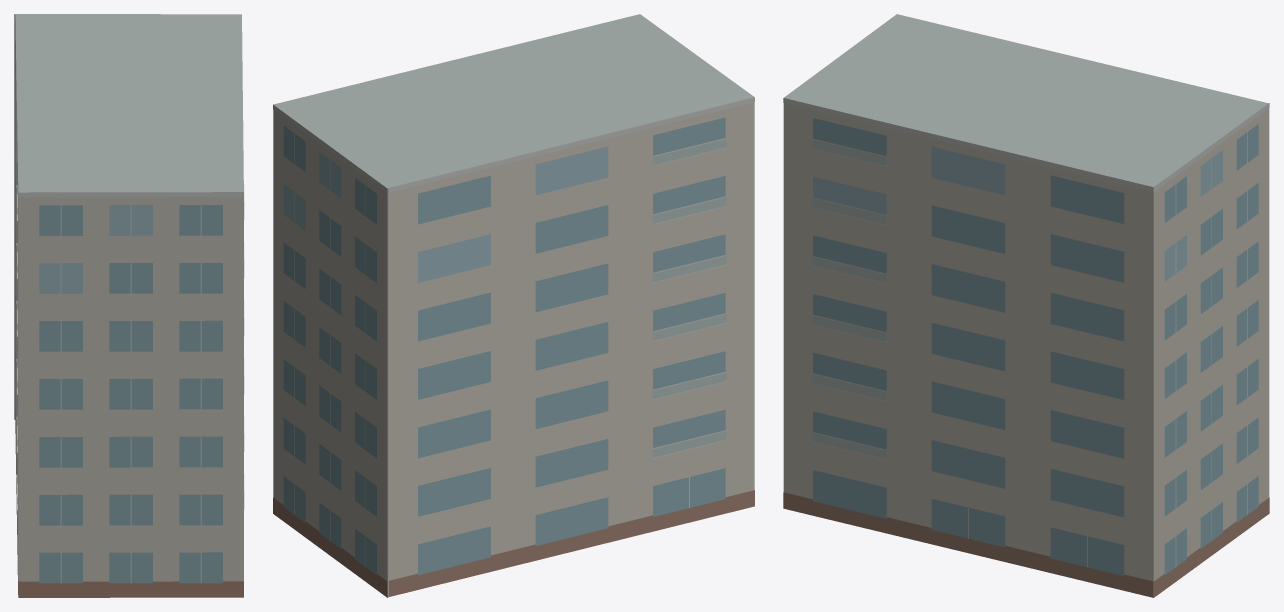
File: survey-upis-32653313.glb
3 renders of one model, left to right at view 1: azimuth 30°, elevation 25°; view 2: azimuth 150°, elevation 25°; view 3: azimuth 270°, elevation 25°, orthographic.
Visible parts, largest first — view 1: survey-upis-32653313.tmp; view 2: survey-upis-32653313.tmp; view 3: survey-upis-32653313.tmp.
Part boxes in pixels (left/top/right/bottom): survey-upis-32653313.tmp: left=14, top=14, right=244, bottom=597; survey-upis-32653313.tmp: left=273, top=14, right=754, bottom=597; survey-upis-32653313.tmp: left=783, top=14, right=1269, bottom=597.
Size of the model in its own units: 18.1 by 20 by 21.46.
